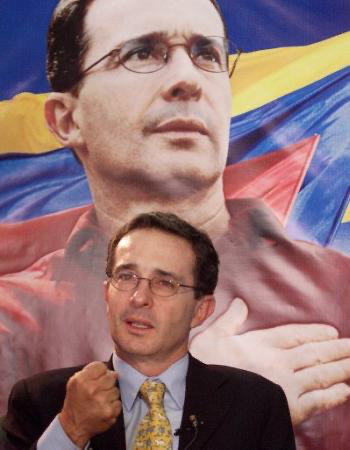Face: (94, 16, 232, 188), (104, 250, 196, 357)
